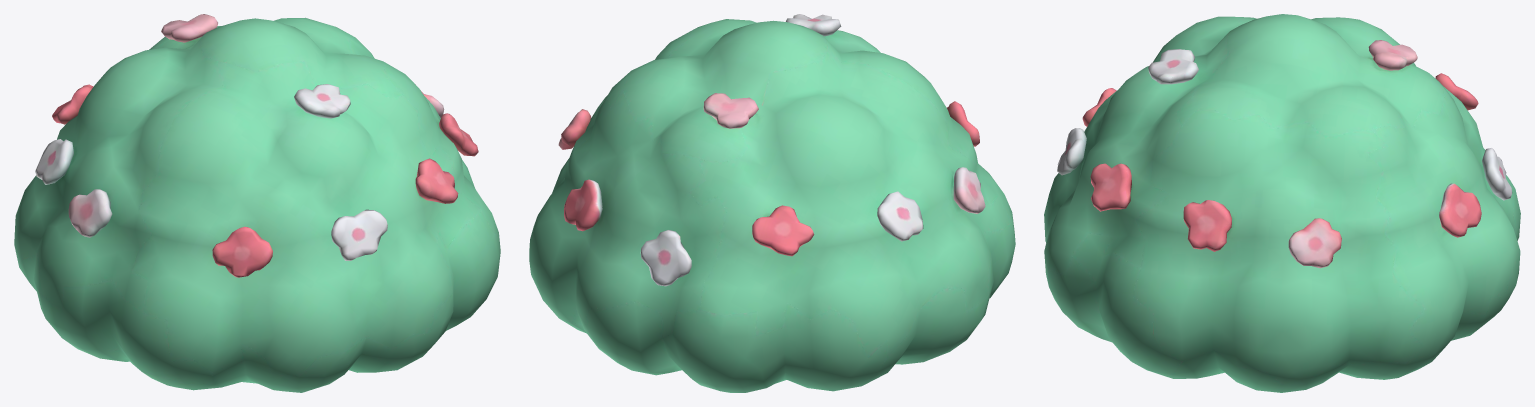
File: bush.glb
3 views of the same model, side by side, from view 1: azimuth 30°, elevation 25°; view 2: azimuth 150°, elevation 25°; view 3: azimuth 270°, elevation 25° (orthographic).
Parts seen in each view (by area): view 1: geometry_0; view 2: geometry_0; view 3: geometry_0.
Part boxes in pixels (x1,y1,x2,y2): geometry_0: [14, 14, 500, 392]; geometry_0: [529, 14, 1015, 392]; geometry_0: [1044, 14, 1520, 392].
Bounding box in the file's own units: 1 × 0.6877 × 0.9999.
1 material, 1 textured.
